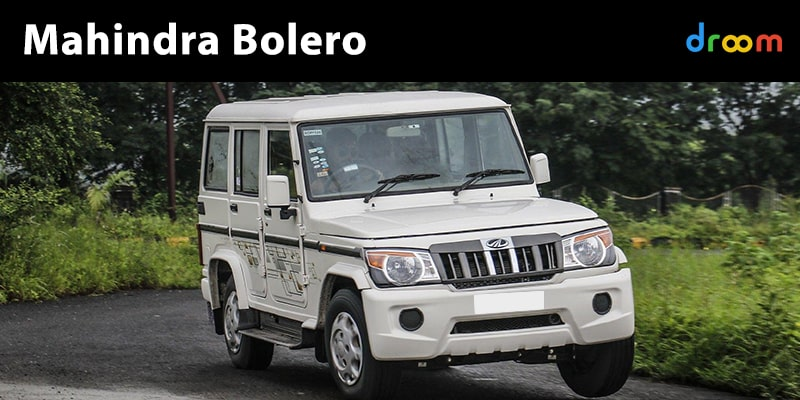car: (199, 92, 637, 396)
